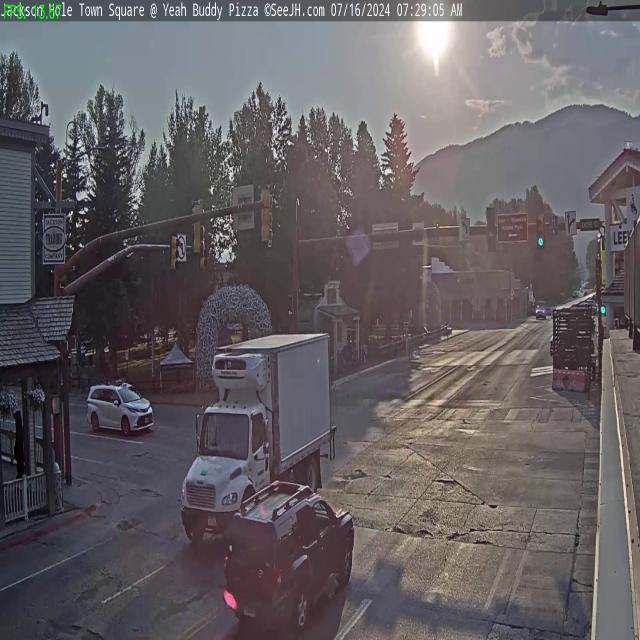suv: (219, 477, 358, 639), (86, 377, 154, 438)
traffic light: (260, 184, 273, 243), (191, 200, 203, 256), (486, 206, 497, 253), (170, 232, 179, 272), (537, 214, 545, 248)
truck: (180, 334, 339, 510)
